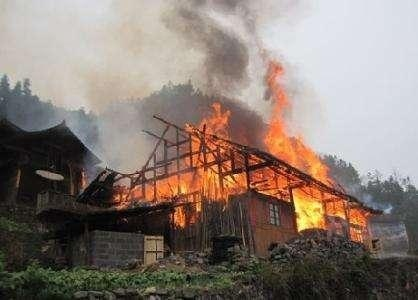fire: (120, 68, 373, 242)
